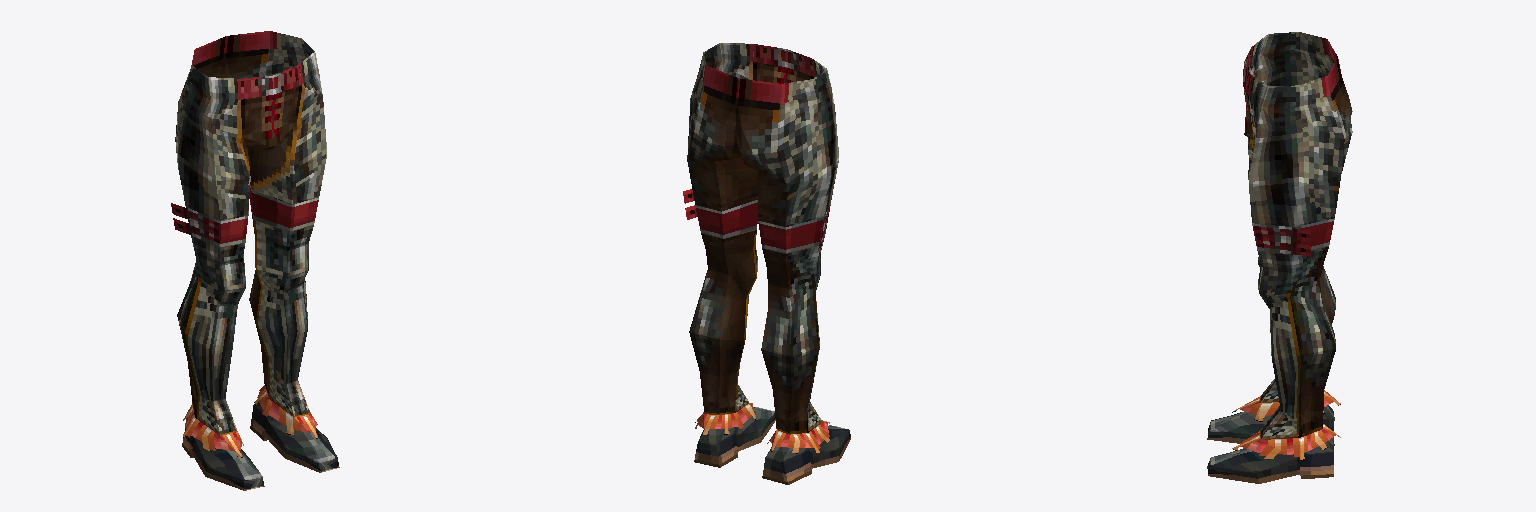
3 renders of one model, left to right at view 1: azimuth 30°, elevation 25°; view 2: azimuth 150°, elevation 25°; view 3: azimuth 270°, elevation 25°, orthographic.
Visible parts, largest first — view 1: mesh00; view 2: mesh00; view 3: mesh00.
Boxes of the visible parts, x1,y1,x2,y2 form: mesh00: [171, 31, 339, 490]; mesh00: [683, 43, 850, 484]; mesh00: [1207, 32, 1352, 483].
Bounding box in the file's own units: 39.97 × 108 × 35.63.
1 materials, 1 textured.